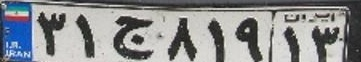character: (108, 12, 159, 61), (162, 13, 200, 62), (34, 6, 69, 58), (232, 12, 266, 62), (73, 9, 101, 60), (309, 24, 342, 62), (204, 12, 228, 62), (277, 23, 304, 62)
